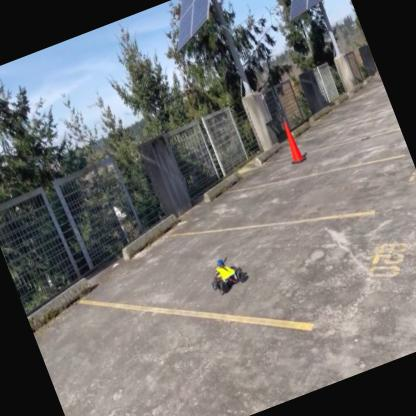cone: (275, 115, 309, 169)
mushr_car: (202, 248, 254, 300)
